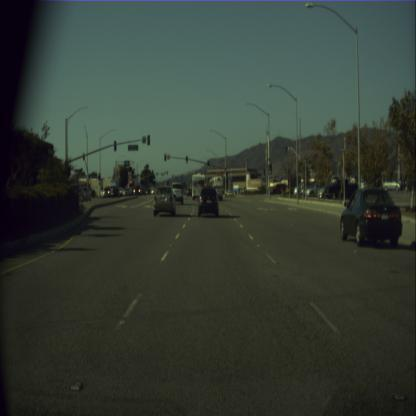Green: (268, 163, 272, 174), (186, 156, 188, 164), (207, 160, 209, 168), (226, 172, 227, 178)
RedLeft: (98, 172, 100, 180), (164, 153, 166, 161)
